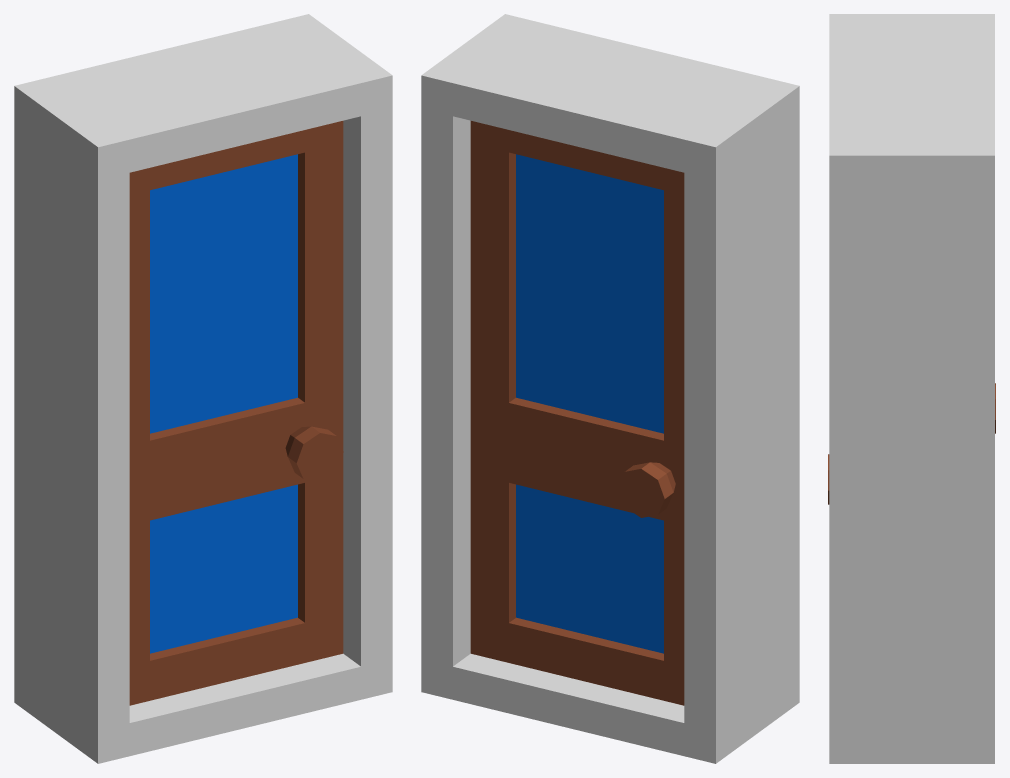
Rendered from Door 4x2x1 Solid.fbx.
3 views of the same model, side by side, from view 1: azimuth 30°, elevation 25°; view 2: azimuth 150°, elevation 25°; view 3: azimuth 270°, elevation 25° (orthographic).
Visible parts, largest first — view 1: Door 4x2x1, Glass; view 2: Door 4x2x1, Glass; view 3: Door 4x2x1.
Boxes of the visible parts, x1,y1,x2,y2 form: Door 4x2x1: (14, 14, 392, 763); Glass: (150, 154, 297, 653); Door 4x2x1: (421, 14, 799, 763); Glass: (516, 154, 663, 653); Door 4x2x1: (828, 14, 995, 763).
Size of the model in its own units: 200 by 400 by 100.
